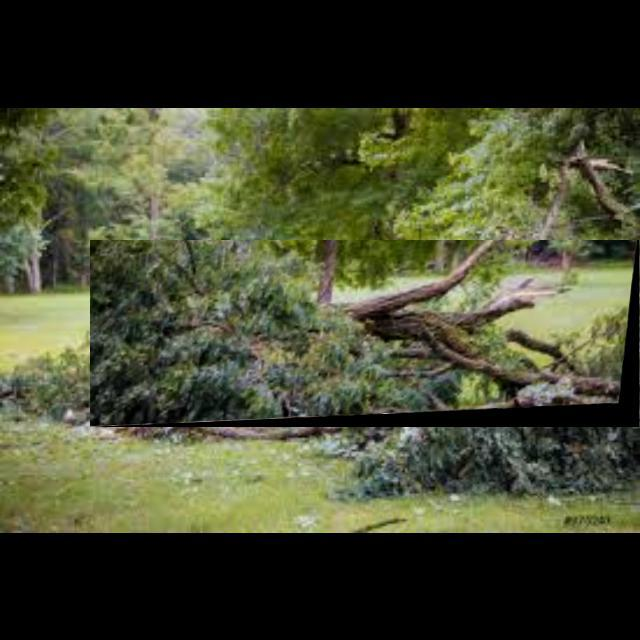fallen_tree: (90, 240, 640, 428)
